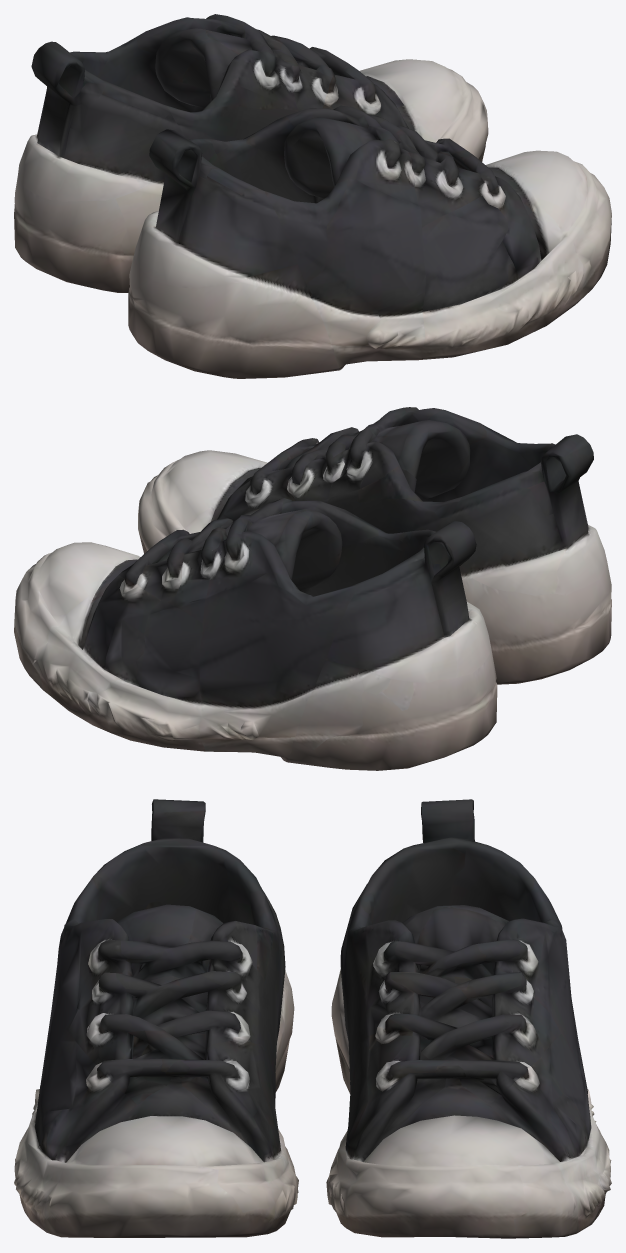
Rendered from shoes.glb.
3 renders of one model, top to bottom at view 1: azimuth 30°, elevation 25°; view 2: azimuth 150°, elevation 25°; view 3: azimuth 270°, elevation 25°, orthographic. The views are drawn at different scales.
Visible parts, largest first — view 1: tripo_node_3920b6a2-b9a7-42fb-9cc1-31fe6f402b92; view 2: tripo_node_3920b6a2-b9a7-42fb-9cc1-31fe6f402b92; view 3: tripo_node_3920b6a2-b9a7-42fb-9cc1-31fe6f402b92.
Boxes of the visible parts, <box> form: tripo_node_3920b6a2-b9a7-42fb-9cc1-31fe6f402b92: <box>14,14,611,378</box>; tripo_node_3920b6a2-b9a7-42fb-9cc1-31fe6f402b92: <box>14,407,611,770</box>; tripo_node_3920b6a2-b9a7-42fb-9cc1-31fe6f402b92: <box>14,799,611,1238</box>.
Size of the model in its own units: 0.9977 by 0.4738 by 0.9963.
1 material, 1 textured.
